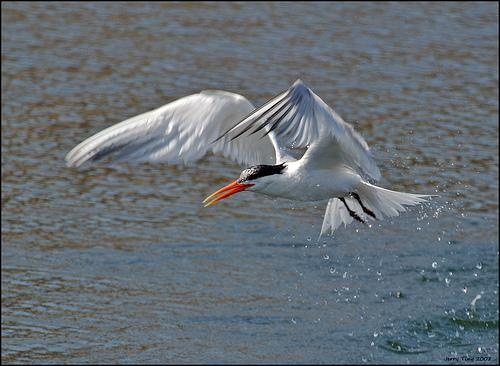bird: (64, 78, 436, 235)
